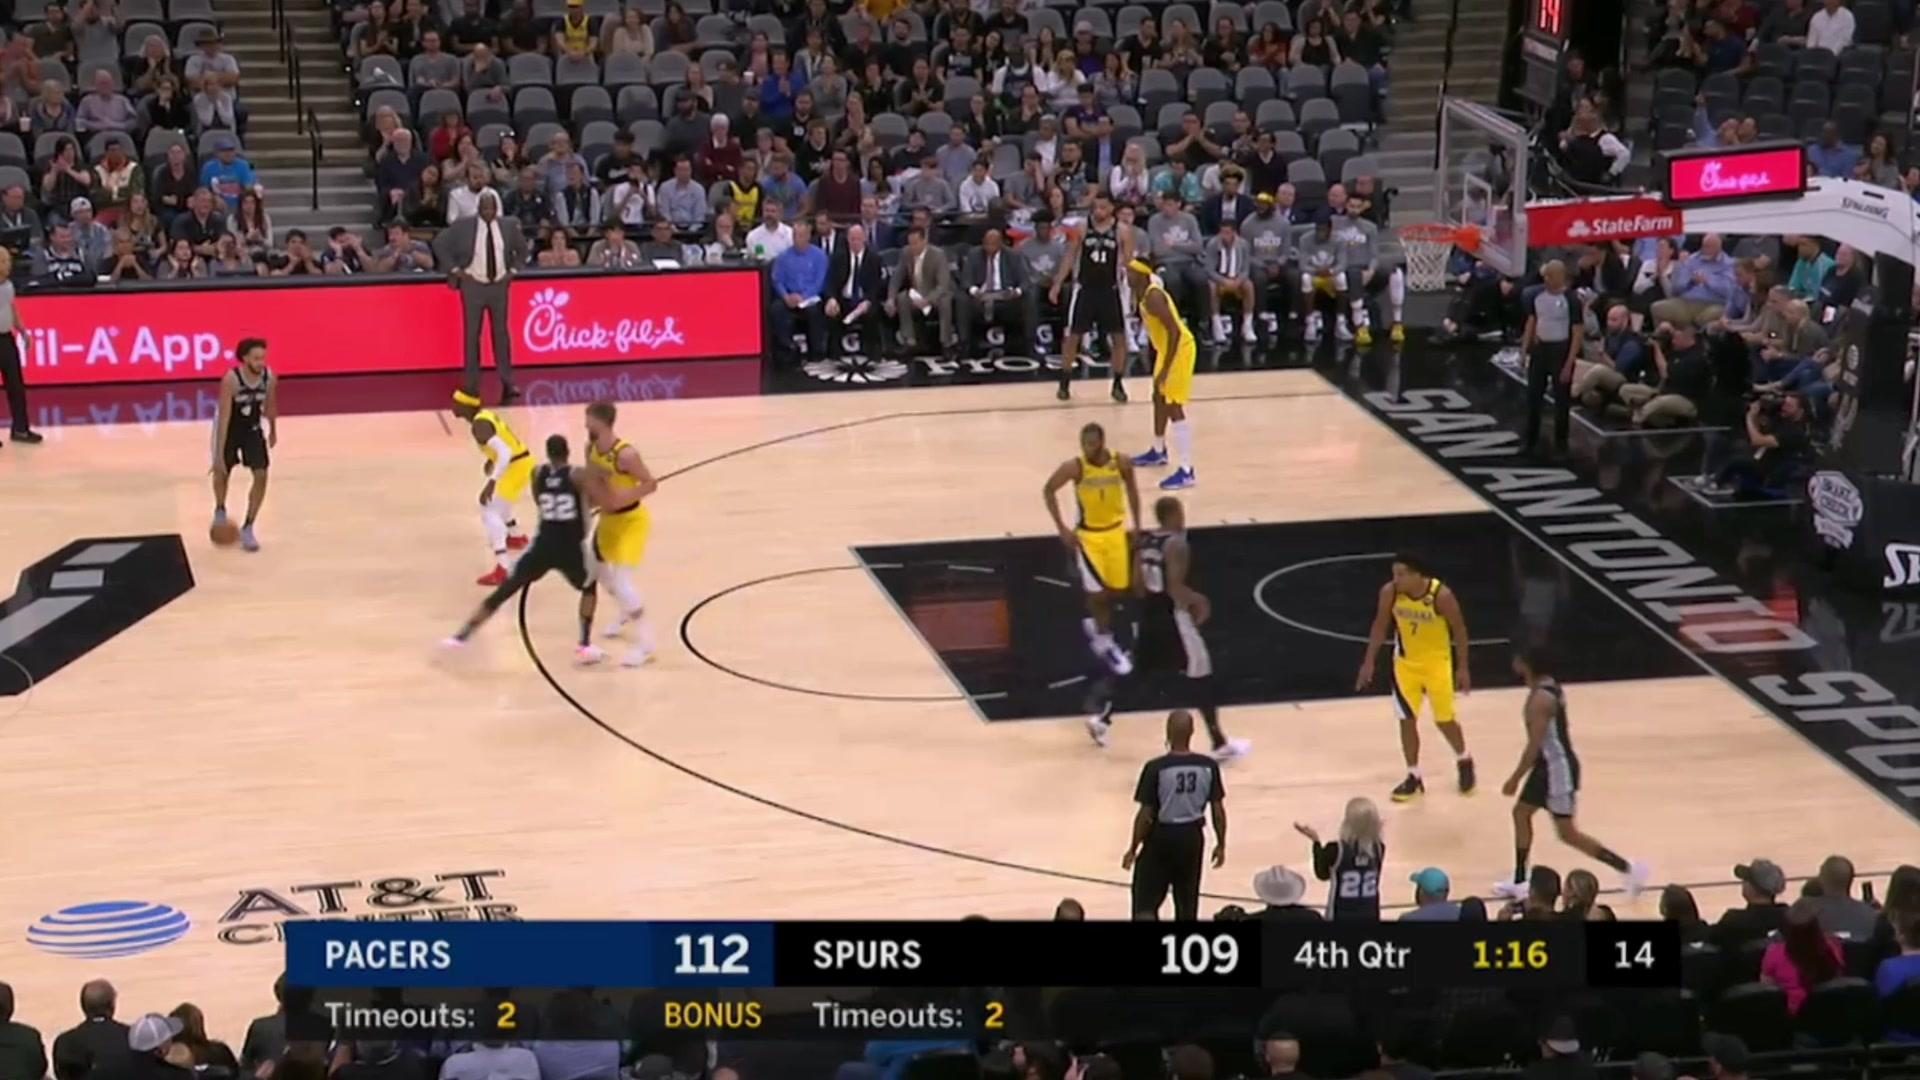no_foul: (526, 381, 663, 683)
